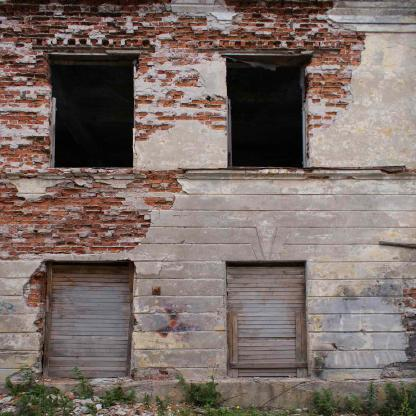Building Outline: (0, 0, 416, 416)
Dont: (1, 365, 416, 416)
Facade: (0, 0, 416, 416)
Floor: (0, 0, 415, 215)
Floor Slab: (0, 215, 415, 223)
Ground Floor: (0, 223, 415, 416)
Window: (42, 261, 132, 376), (48, 54, 133, 169), (225, 260, 306, 378), (226, 54, 307, 169)
